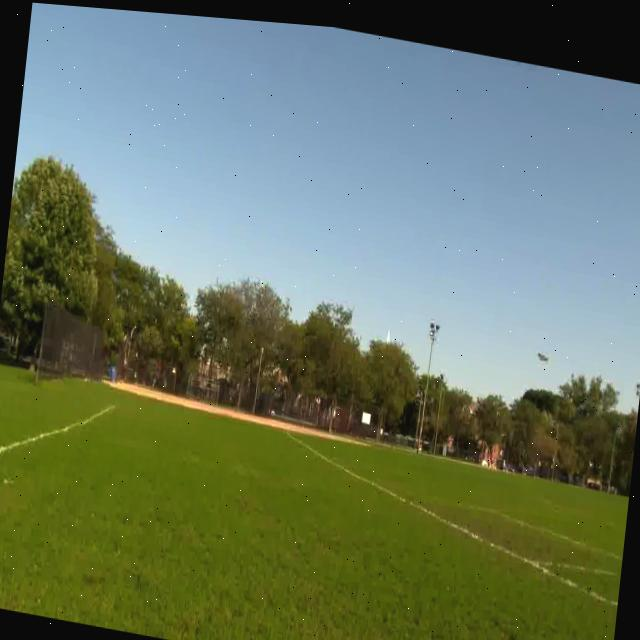drone: (532, 328, 552, 359)
